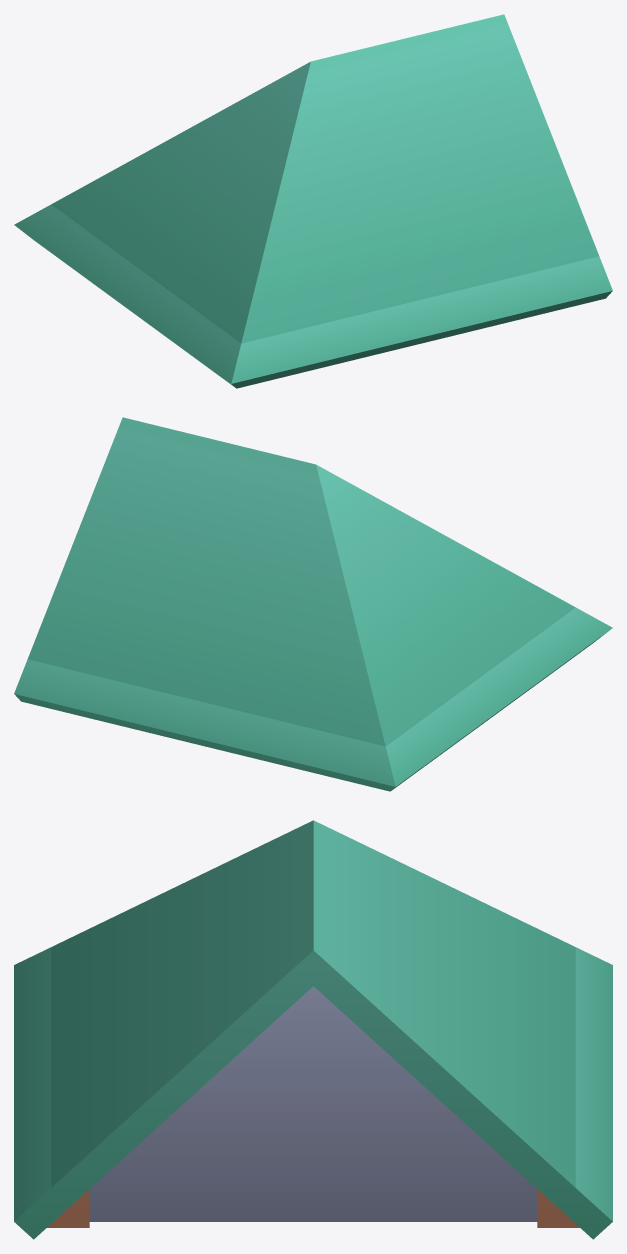
The model's file is kenney-fantasy-town-roof-gable-end.glb.
The picture shows the model from 3 angles, top to bottom: view 1: azimuth 30°, elevation 25°; view 2: azimuth 150°, elevation 25°; view 3: azimuth 270°, elevation 25°; orthographic projection. The views are drawn at different scales.
Parts seen in each view (by area): view 1: roof-gable-end; view 2: roof-gable-end; view 3: roof-gable-end.
Part boxes in pixels (<box>): roof-gable-end: <box>14,14,612,388</box>; roof-gable-end: <box>14,417,612,791</box>; roof-gable-end: <box>14,820,612,1239</box>.
Bounding box in the file's own units: 1.09 × 0.5707 × 1.07.
Materials: 1 (1 with a texture image).
